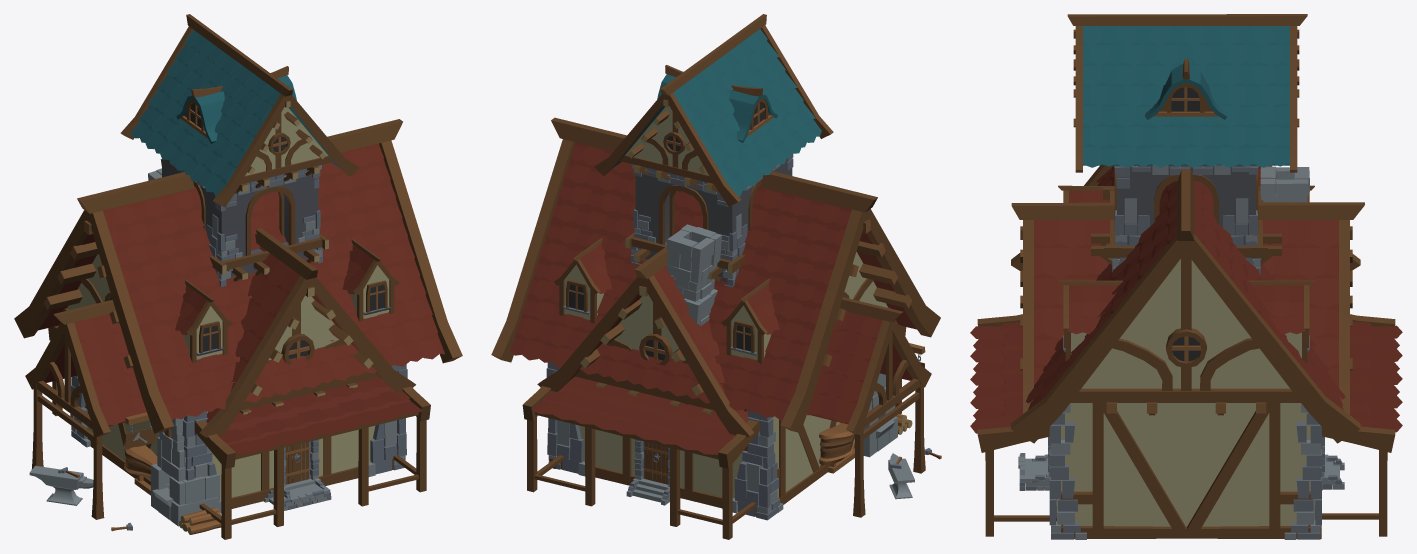
The model's file is vila.glb.
3 views of the same model, side by side, from view 1: azimuth 30°, elevation 25°; view 2: azimuth 150°, elevation 25°; view 3: azimuth 270°, elevation 25° (orthographic). The views are drawn at different scales.
Parts seen in each view (by area): view 1: Inn, Blacksmith, Bell_Tower; view 2: Inn, Blacksmith, Bell_Tower; view 3: Inn, Bell_Tower, Blacksmith.
Part boxes in pixels (left/top/right/bottom): Inn: left=14, top=119, right=462, bottom=539; Blacksmith: left=25, top=159, right=415, bottom=534; Bell_Tower: left=120, top=14, right=359, bottom=286; Inn: left=491, top=117, right=940, bottom=539; Blacksmith: left=537, top=224, right=941, bottom=517; Bell_Tower: left=594, top=14, right=833, bottom=287; Inn: left=970, top=165, right=1402, bottom=539; Bell_Tower: left=1067, top=14, right=1307, bottom=275; Blacksmith: left=1011, top=166, right=1364, bottom=490.
Bounding box in the file's own units: 4.58 × 5.01 × 4.02.
